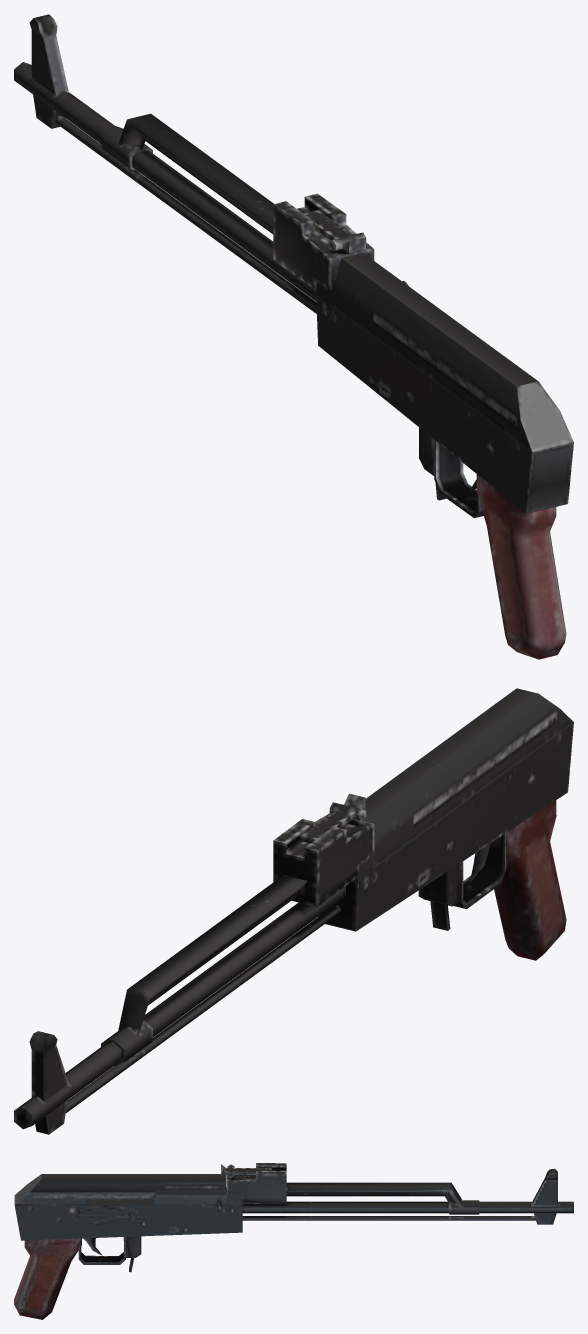
Rendered from AKM_Bakelite.fbx.
3 renders of one model, top to bottom at view 1: azimuth 30°, elevation 25°; view 2: azimuth 150°, elevation 25°; view 3: azimuth 270°, elevation 25°, orthographic. The views are drawn at different scales.
Parts seen in each view (by area): view 1: AKM_Bakelite; view 2: AKM_Bakelite; view 3: AKM_Bakelite.
Part boxes in pixels (x1,y1,x2,y2): AKM_Bakelite: [14, 14, 573, 659]; AKM_Bakelite: [14, 688, 573, 1134]; AKM_Bakelite: [14, 1163, 573, 1319].
Size of the model in its own units: 0.035 by 0.4487 by 0.1337.
